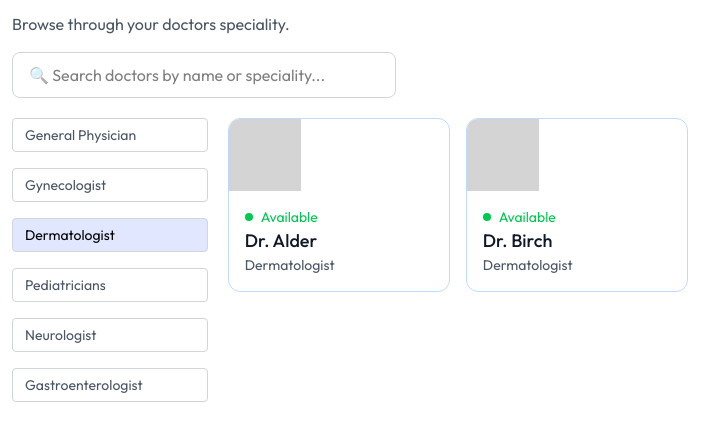
Test: Doctors › combines the URL speciality with the search box
The width and height of the screenshot is (705, 447).
Step 1. Type "alder" into the field with placeholder "🔍 Search doctors by name or speciality..." → (204, 75), box [12,52,396,98]
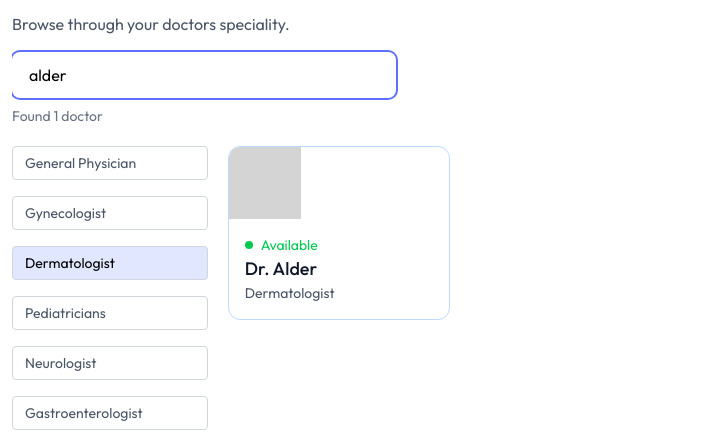
Expected: the text "Dr. Alder" is shown, [245,257,317,280]
Result: the text "Dr. Birch" is gone
